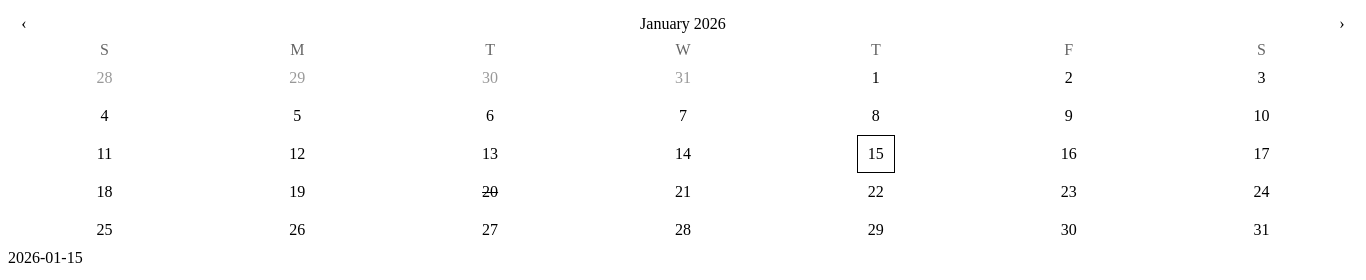
Test: Calendar › steps to the next month via the nav button
Click the button named "Next". click: (1342, 24)
box: [1326,8,1358,40]
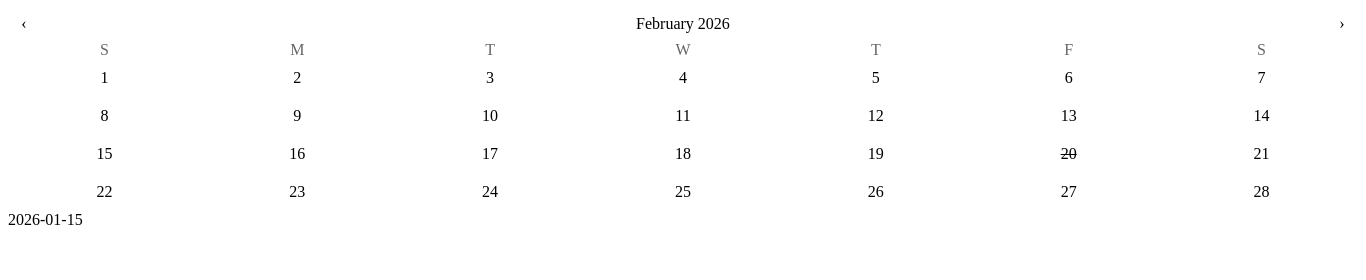
Result: the text with class "sve-calendar__heading" reads "February 2026" at [636,15,730,32]
